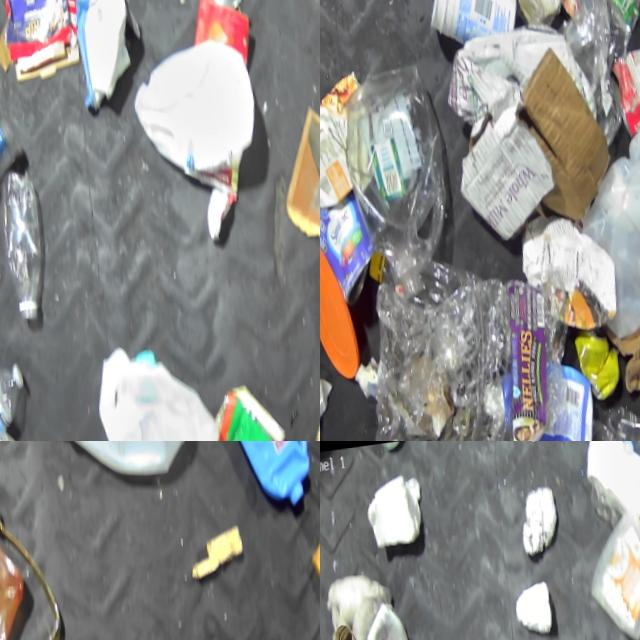can: (320, 193, 374, 312), (569, 331, 618, 408), (604, 47, 640, 144), (571, 0, 610, 14)
milk_jug: (126, 39, 262, 186), (86, 334, 224, 441), (569, 152, 640, 347), (616, 71, 640, 220)
non_white_jug: (335, 64, 456, 306), (513, 213, 617, 346), (211, 441, 315, 522), (34, 441, 198, 492), (320, 71, 376, 214)
plastic_bottle: (0, 166, 52, 329), (0, 111, 30, 277), (0, 357, 30, 441), (601, 0, 640, 55), (598, 402, 640, 441)
